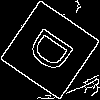D: (25, 25, 84, 81)
